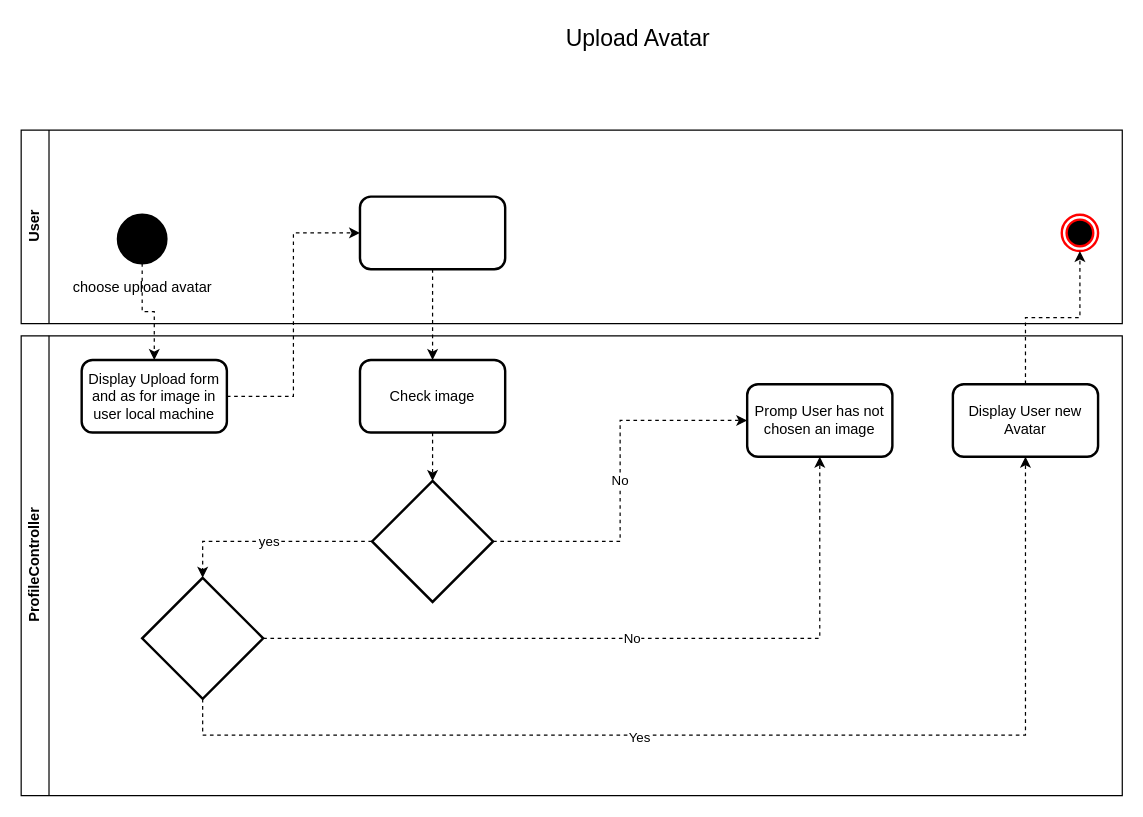
Some shapes in this 1143 by 817 pixel diagram are drawn without their labels. Here are the shapes that lost their labels. From the top down, the centre of each, then its label:
the point at 432,232: User choose Image
the point at 432,541: Has chosen any image?
the point at 202,637: Is Image format support?
